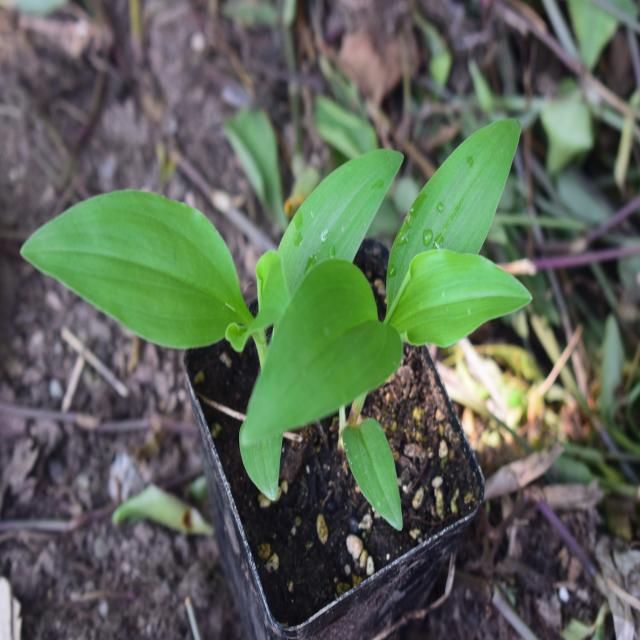Common Dayflower: (18, 131, 540, 472)
